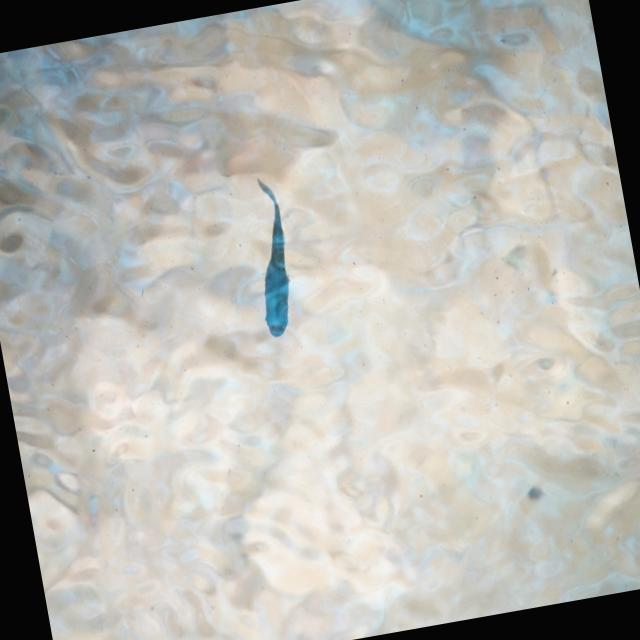Sivrisinek Baligi: (253, 176, 294, 351)
